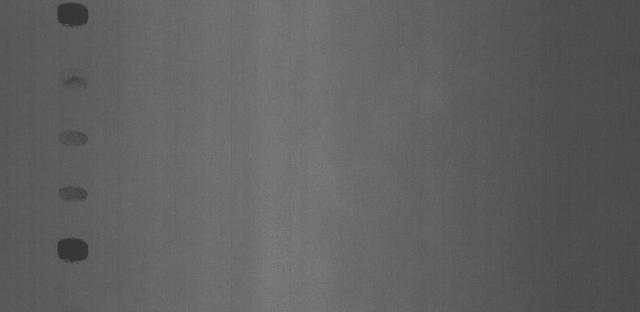oil_spot: (51, 0, 92, 29), (57, 237, 91, 266), (60, 125, 92, 147), (60, 73, 94, 92), (58, 185, 89, 202)
